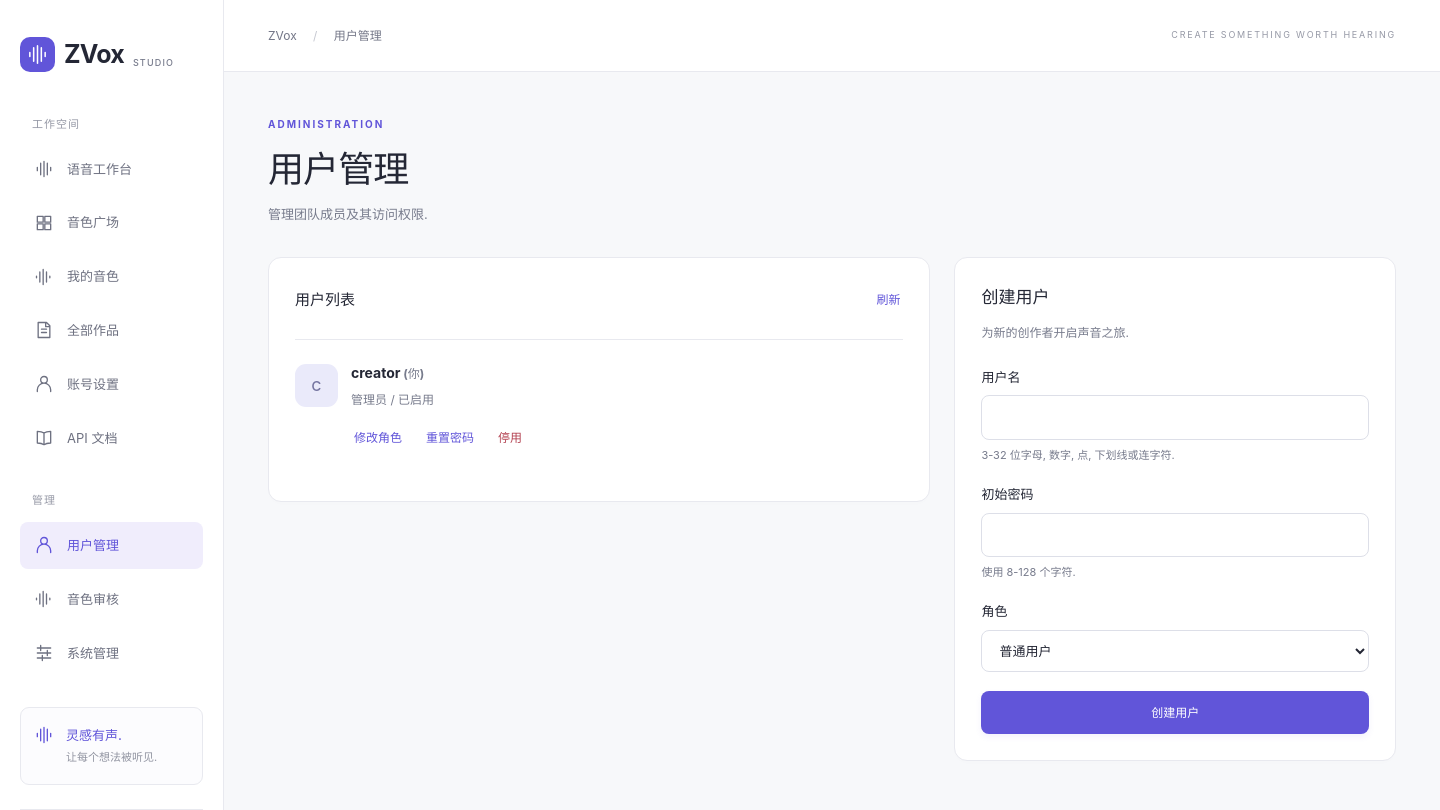
Test case: application flows › updates permissions immediately after an administrator changes their own role
Click the button "修改角色". click: (378, 438)
box: [351,422,405,453]
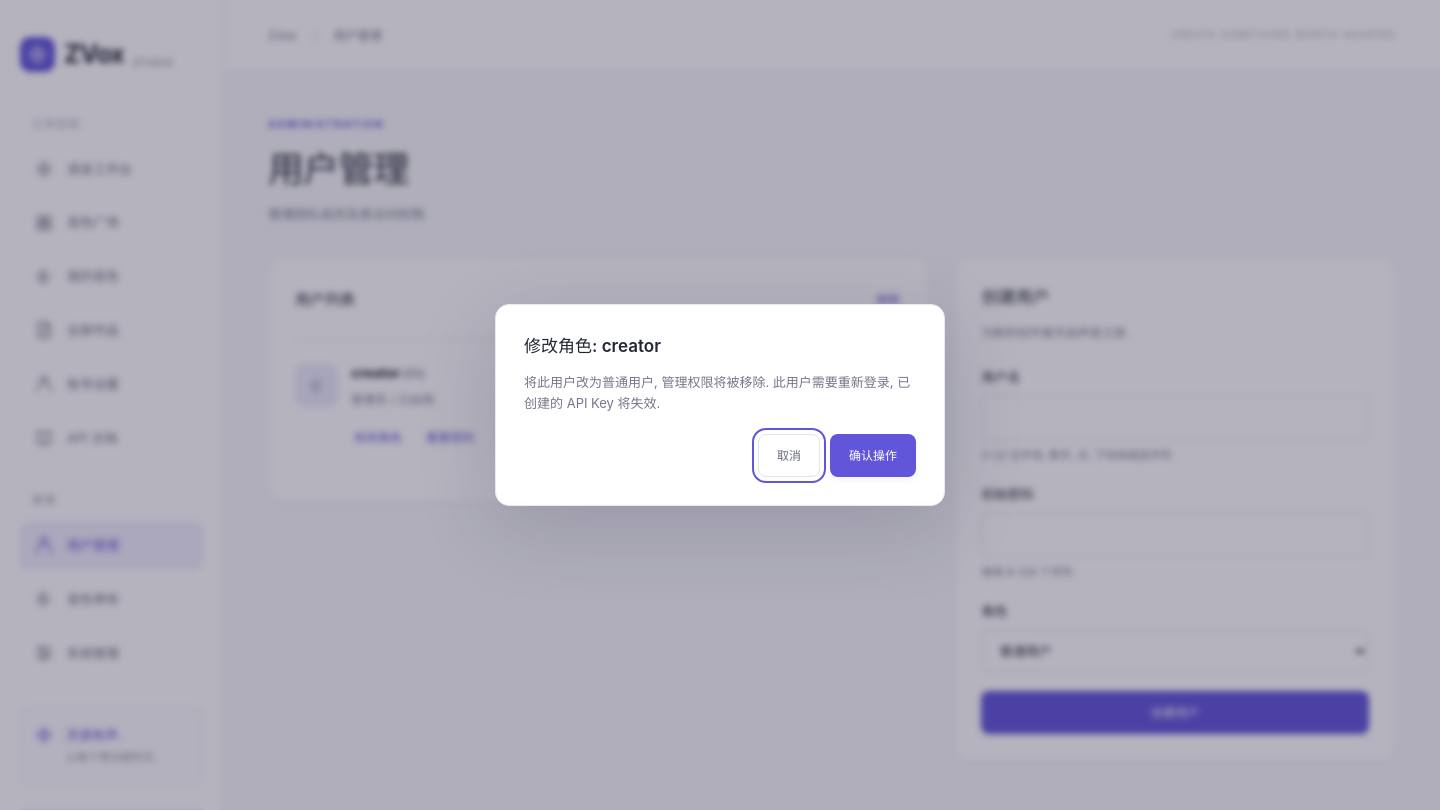
Click the button "确认操作". click: (873, 455)
box: [830,434,916,477]
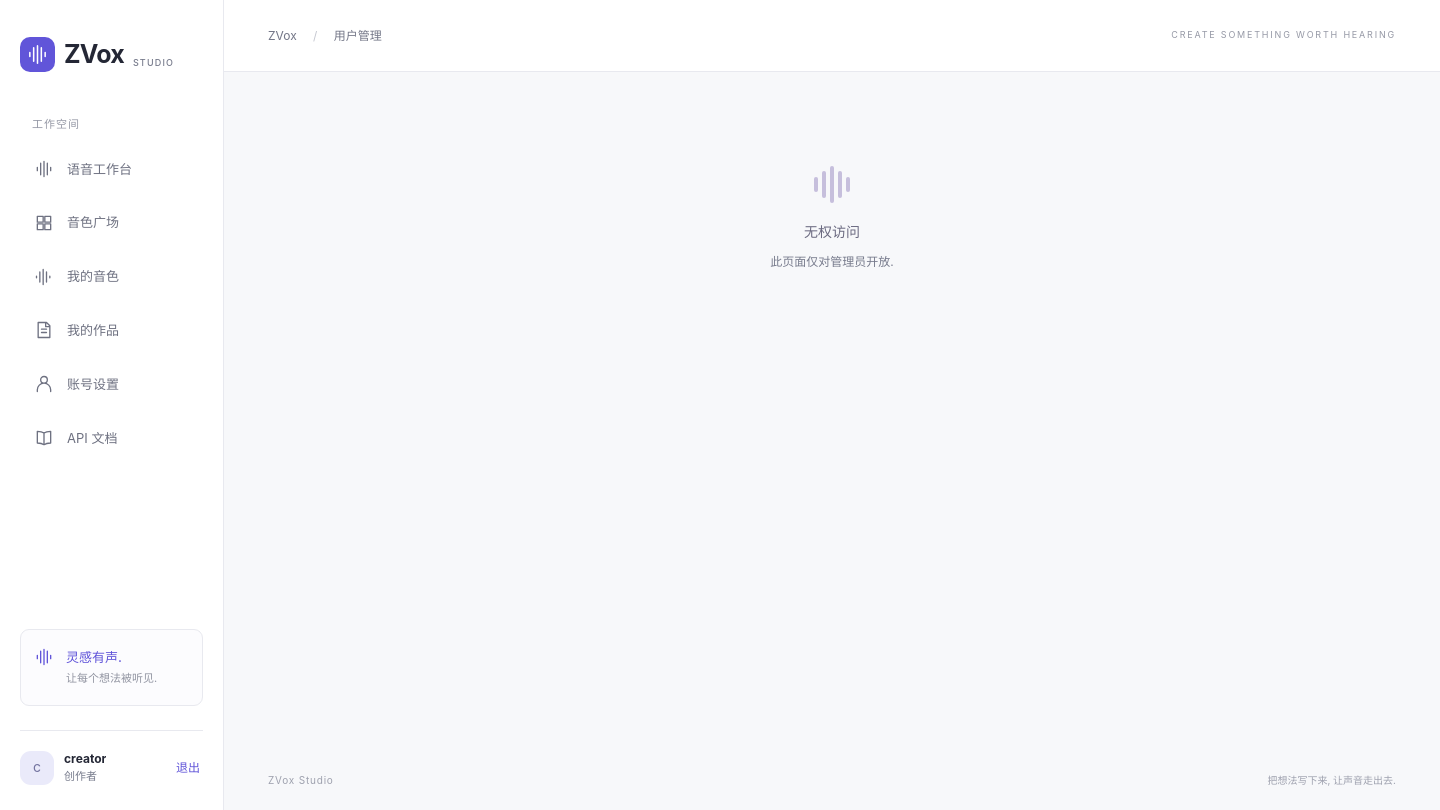
Expected: the heading "无权访问" is shown, [804,223,860,240]
